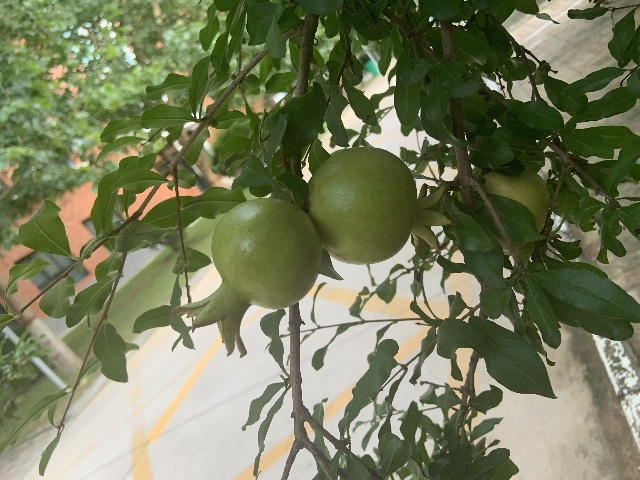mid-growth: (171, 196, 321, 357), (308, 147, 453, 264), (457, 166, 562, 251)
